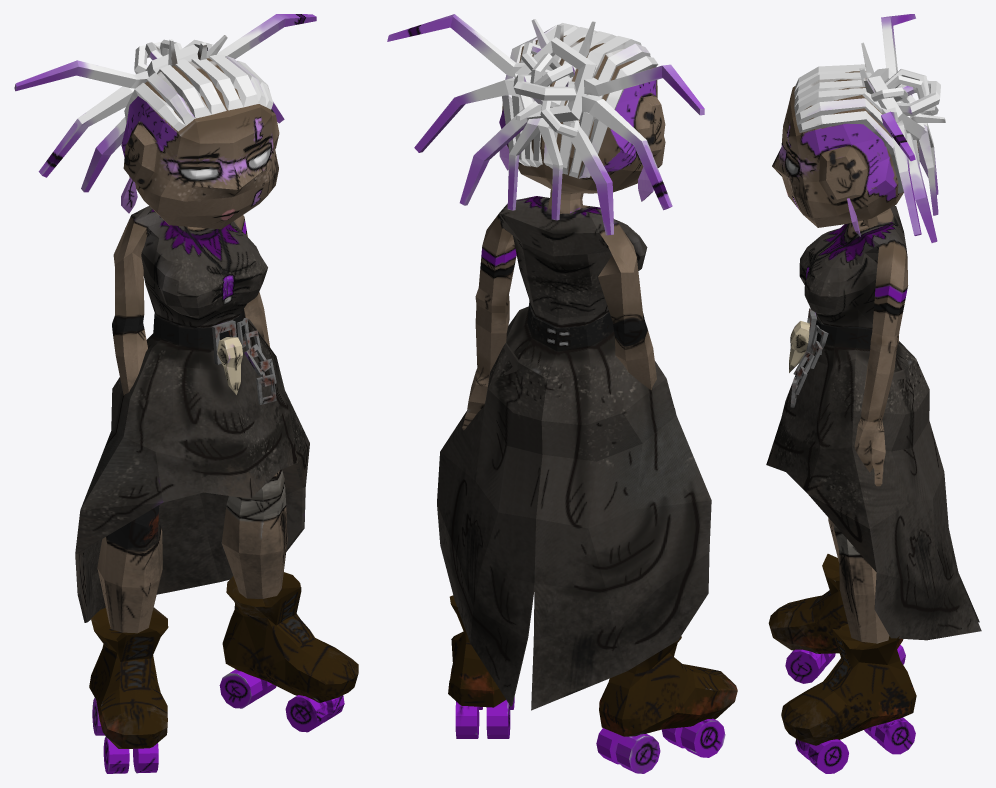
The model's file is bruja_000049.obj.
3 views of the same model, side by side, from view 1: azimuth 30°, elevation 25°; view 2: azimuth 150°, elevation 25°; view 3: azimuth 270°, elevation 25° (orthographic). The views are drawn at different scales.
Parts seen in each view (by area): view 1: Bruja_Plane.001; view 2: Bruja_Plane.001; view 3: Bruja_Plane.001.
Boxes of the visible parts, <box> form: Bruja_Plane.001: <box>14,14,358,773</box>; Bruja_Plane.001: <box>387,14,737,773</box>; Bruja_Plane.001: <box>766,14,981,773</box>.
Bounding box in the file's own units: 7.48 × 16.58 × 4.87.
